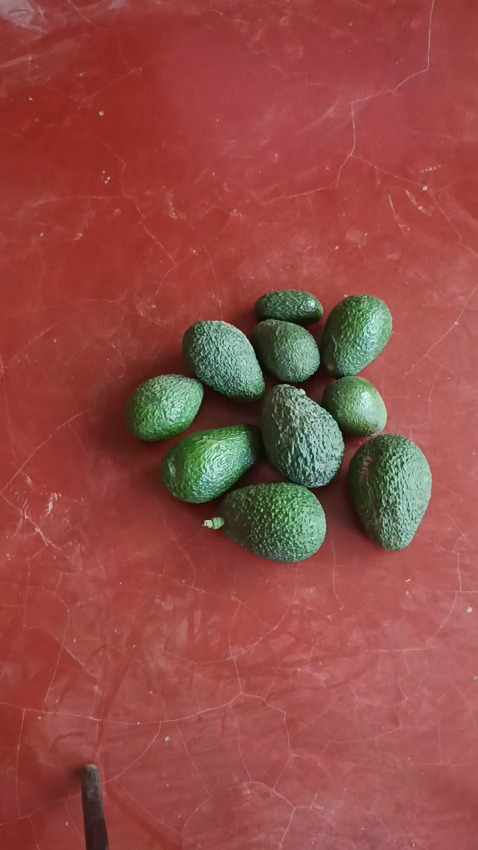Primera: (346, 434, 432, 549), (260, 383, 345, 486), (216, 482, 327, 559), (160, 424, 262, 503), (182, 319, 267, 401)
Segunda: (320, 293, 394, 376), (126, 374, 204, 441)
Tercera: (251, 319, 321, 384), (320, 375, 386, 438), (254, 290, 324, 326)
